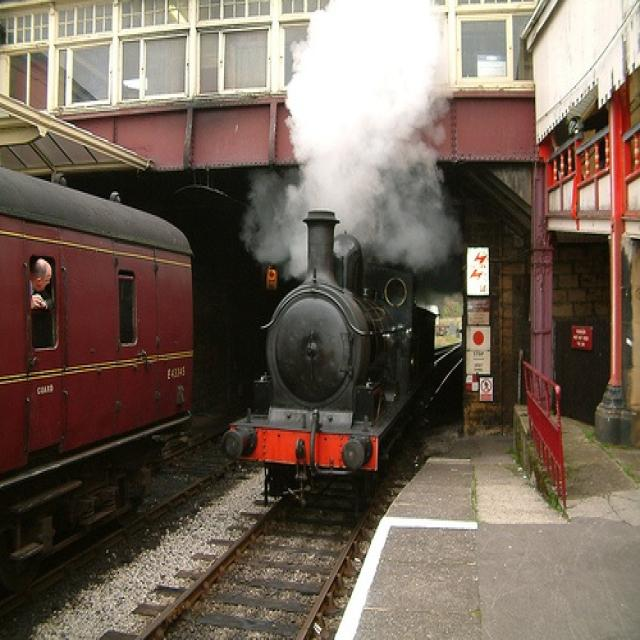train: (0, 160, 198, 597), (226, 201, 442, 514)
